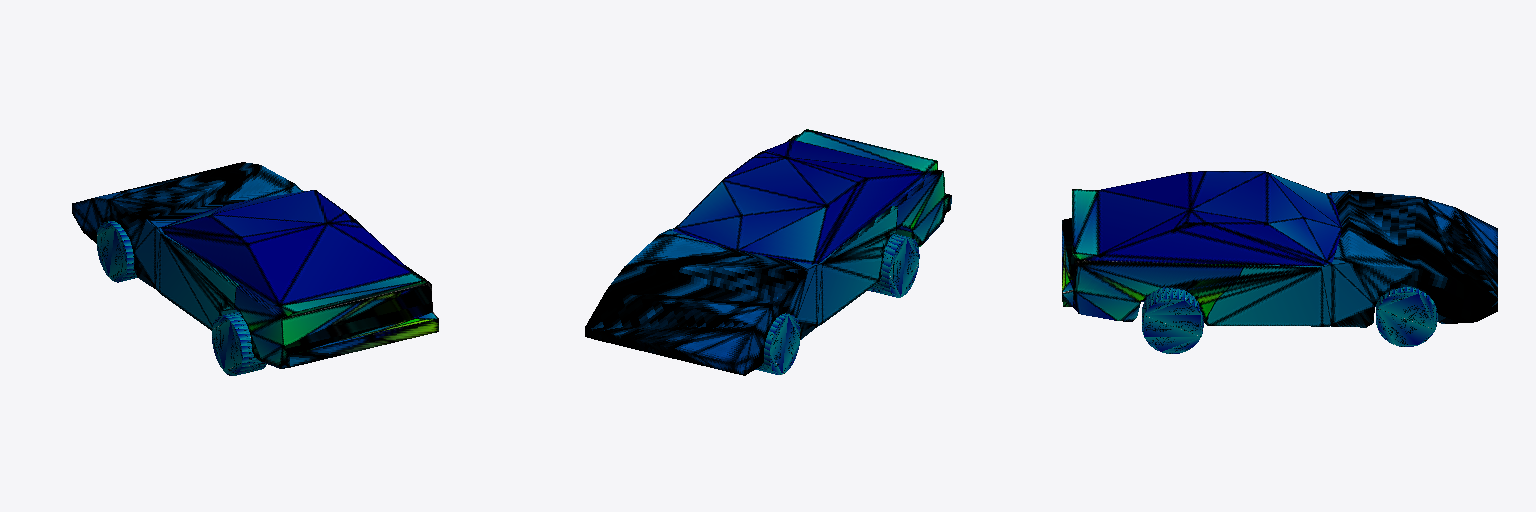
3 views of the same model, side by side, from view 1: azimuth 30°, elevation 25°; view 2: azimuth 150°, elevation 25°; view 3: azimuth 270°, elevation 25° (orthographic).
Visible parts, largest first — view 1: TireFP_Cylinder; view 2: TireFP_Cylinder; view 3: TireFP_Cylinder.
Part boxes in pixels (x1,y1,x2,y2): TireFP_Cylinder: (72, 162, 438, 375); TireFP_Cylinder: (585, 129, 951, 375); TireFP_Cylinder: (1062, 171, 1497, 353).
Size of the model in its own units: 0.3328 by 0.2272 by 0.763.
Materials: 2 (1 with a texture image).